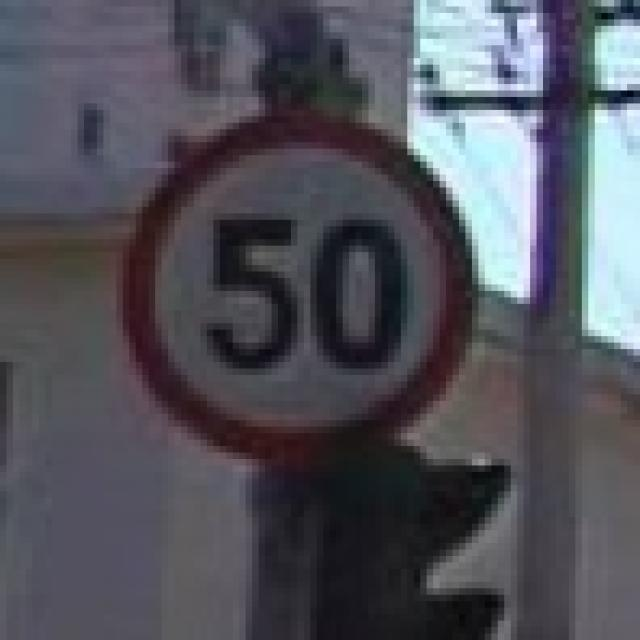Speed Limit -50-: (203, 211, 406, 374)
